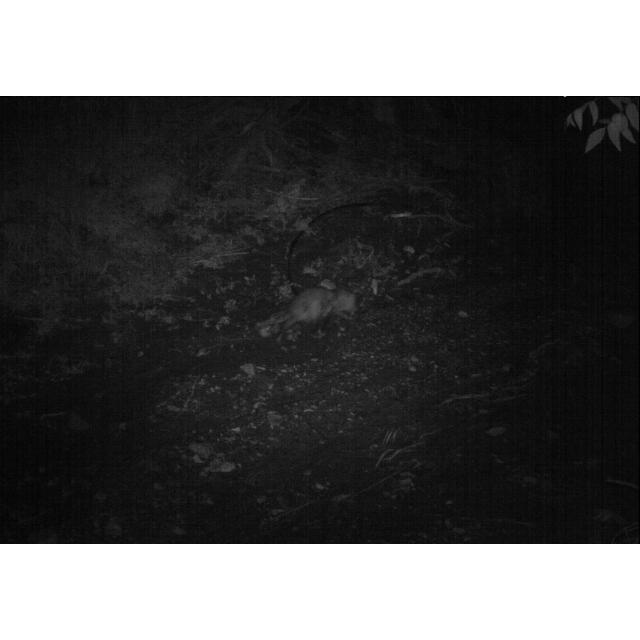animals: (262, 285, 361, 331)
